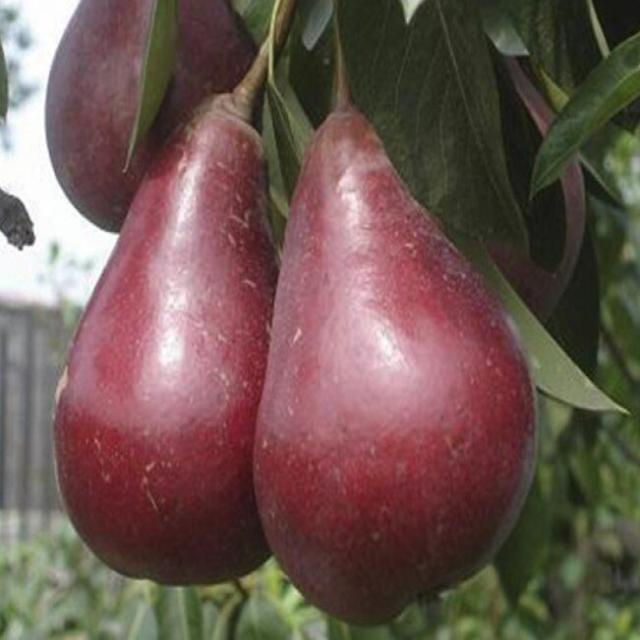pear: (250, 72, 540, 630), (33, 69, 282, 590)
